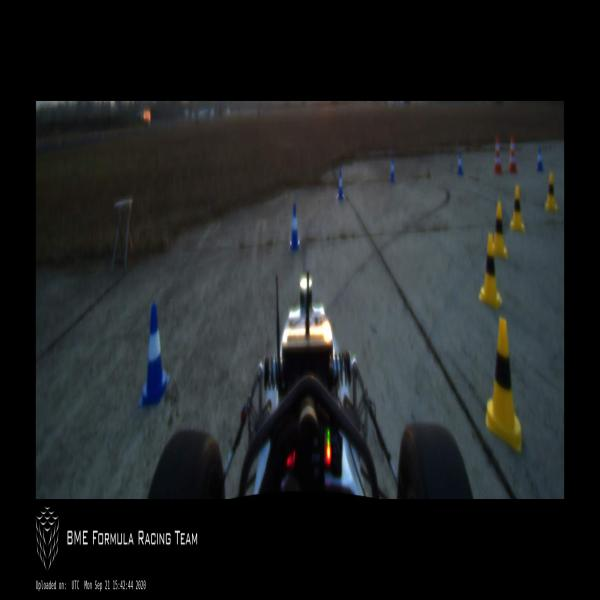blue_cone: (138, 301, 171, 404), (290, 204, 299, 247), (336, 168, 345, 199), (390, 157, 396, 181), (536, 147, 542, 171), (458, 152, 463, 176)
large_orange_cone: (508, 132, 517, 175), (494, 136, 503, 176)
yellow_cone: (486, 320, 522, 450), (478, 233, 502, 304), (491, 202, 507, 258), (510, 185, 525, 230), (544, 170, 558, 211)
